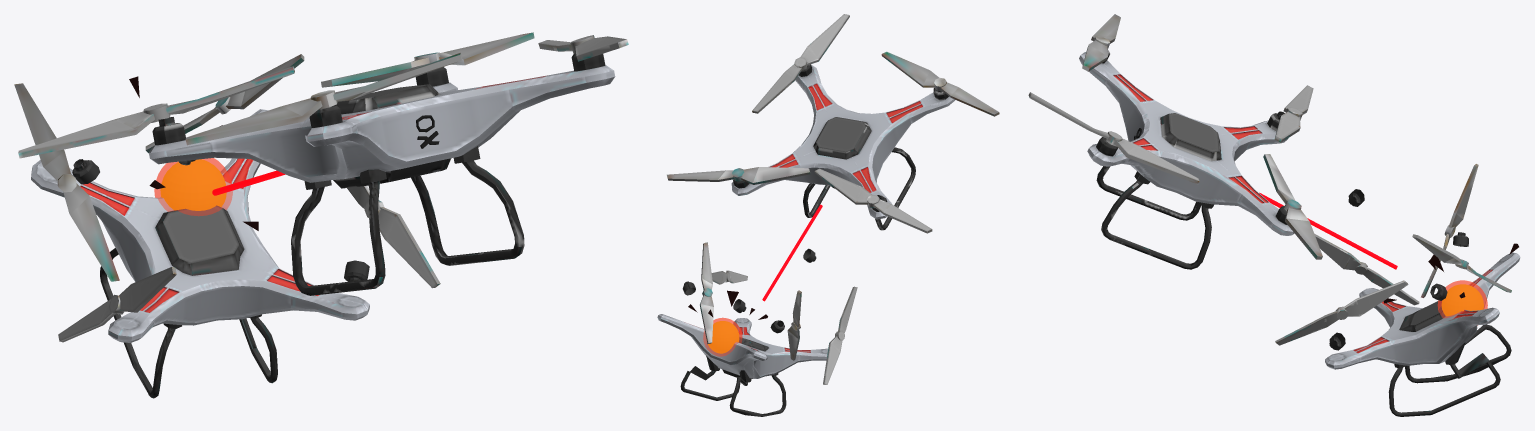
The model's file is drone.glb.
3 views of the same model, side by side, from view 1: azimuth 30°, elevation 25°; view 2: azimuth 150°, elevation 25°; view 3: azimuth 270°, elevation 25° (orthographic). The views are drawn at different scales.
Parts seen in each view (by area): view 1: MainBody, MainBody.001, Wing2.001, Wing2, Wing4, Sphere.001, Sphere, Wing3.001, Wing1, Wing4.001, Wing1.001, Wing3; view 2: MainBody, MainBody.001, Wing3, Wing1, Wing2, Wing4, Sphere.001, Wing1.001, Wing3.001, Sphere, Wing2.001, Cylinder (+1 smaller); view 3: MainBody, MainBody.001, Wing3, Wing4.001, Wing1, Sphere.001, Wing3.001, Wing2, Wing4, Sphere, Wing2.001, Wing1.001 (+1 smaller).
Boxes of the visible parts, bbox=[...] form: MainBody: bbox=[149, 53, 615, 295]; MainBody.001: bbox=[31, 109, 369, 398]; Wing2.001: bbox=[14, 83, 119, 281]; Wing2: bbox=[185, 52, 462, 145]; Wing4: bbox=[18, 66, 294, 158]; Sphere.001: bbox=[154, 158, 232, 215]; Sphere: bbox=[160, 159, 226, 210]; Wing3.001: bbox=[58, 267, 176, 342]; Wing1: bbox=[321, 32, 534, 87]; Wing4.001: bbox=[347, 185, 440, 288]; Wing1.001: bbox=[145, 54, 304, 153]; Wing3: bbox=[538, 35, 628, 61]; MainBody: bbox=[731, 64, 955, 230]; MainBody.001: bbox=[657, 314, 827, 416]; Wing3: bbox=[752, 14, 849, 113]; Wing1: bbox=[667, 167, 810, 184]; Wing2: bbox=[881, 51, 999, 116]; Wing4: bbox=[814, 168, 932, 233]; Sphere.001: bbox=[703, 317, 742, 356]; Wing1.001: bbox=[700, 242, 713, 343]; Wing3.001: bbox=[823, 286, 857, 384]; Sphere: bbox=[708, 321, 739, 353]; Wing2.001: bbox=[787, 290, 801, 360]; Cylinder: bbox=[762, 204, 822, 301]; MainBody: bbox=[1079, 50, 1294, 269]; MainBody.001: bbox=[1325, 252, 1520, 416]; Wing3: bbox=[1028, 92, 1199, 184]; Wing4.001: bbox=[1275, 280, 1408, 345]; Wing1: bbox=[1263, 154, 1322, 259]; Sphere.001: bbox=[1437, 280, 1487, 325]; Wing3.001: bbox=[1314, 233, 1419, 305]; Wing2: bbox=[1082, 14, 1120, 71]; Wing4: bbox=[1274, 85, 1313, 142]; Sphere: bbox=[1441, 284, 1483, 316]; Wing2.001: bbox=[1421, 164, 1478, 297]; Wing1.001: bbox=[1412, 234, 1511, 292].
Size of the model in its own units: 15.18 by 14.89 by 19.36.
8 materials, 2 textured.
